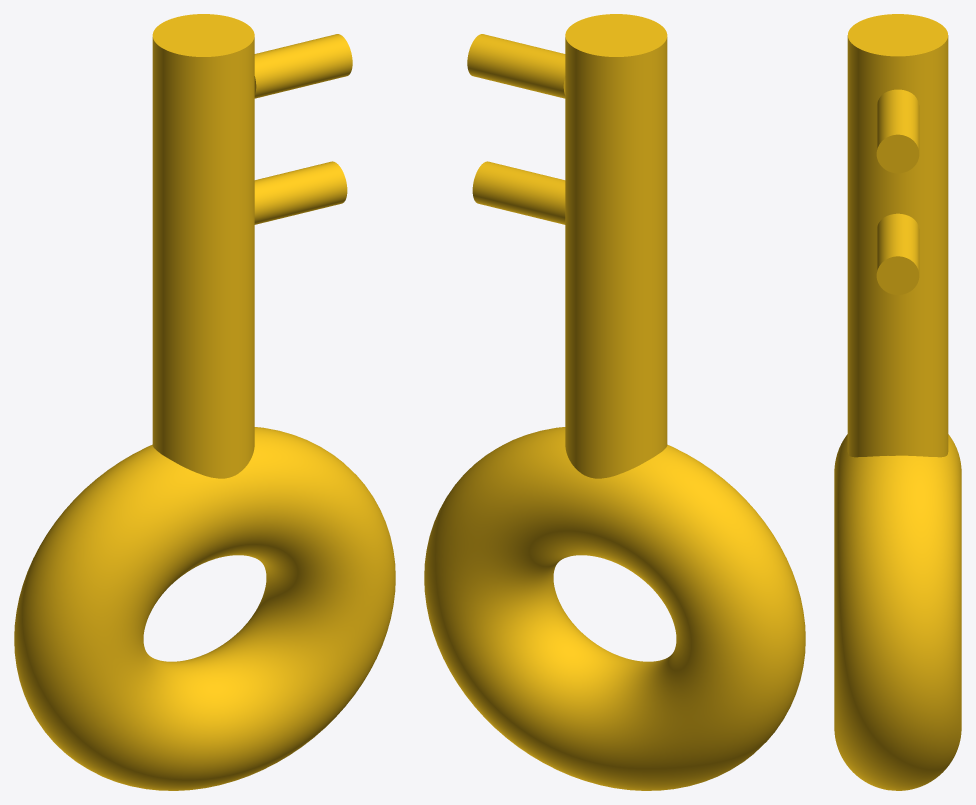
The model's file is Key.fbx.
3 renders of one model, left to right at view 1: azimuth 30°, elevation 25°; view 2: azimuth 150°, elevation 25°; view 3: azimuth 270°, elevation 25°, orthographic.
Parts seen in each view (by area): view 1: root (×4); view 2: root (×4); view 3: root (×4).
Part boxes in pixels (left/top/right/bottom): root (×4): left=14, top=14, right=395, bottom=790; root (×4): left=424, top=14, right=805, bottom=790; root (×4): left=834, top=14, right=961, bottom=790.
Bounding box in the file's own units: 0.1328 × 0.2597 × 0.0408.
